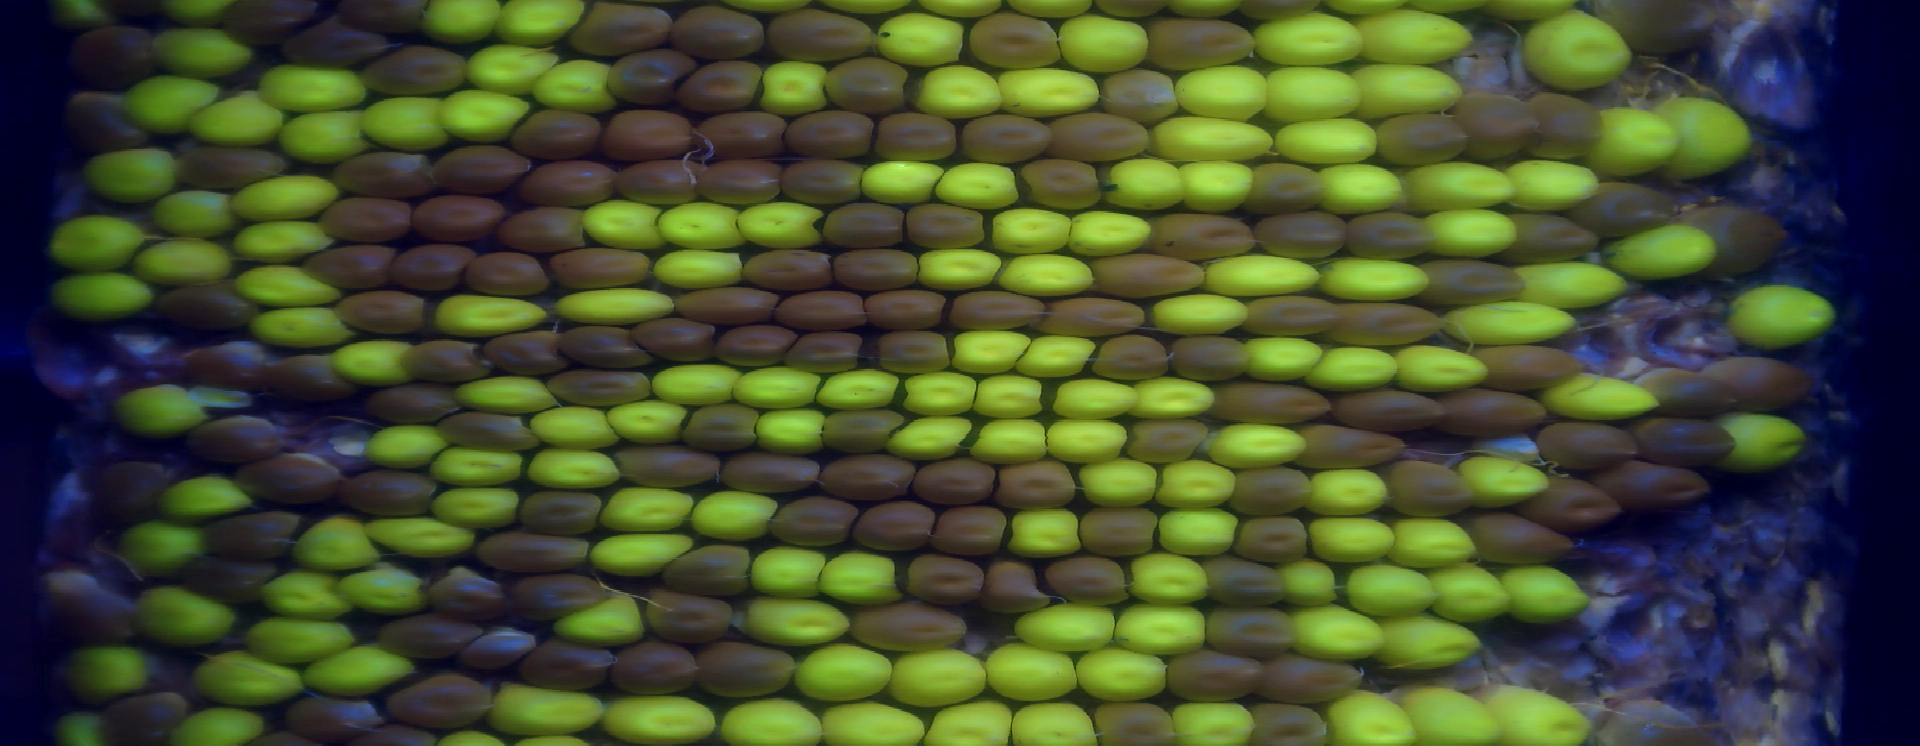fluorescent: (1526, 13, 1638, 93), (1733, 282, 1836, 353), (1141, 113, 1289, 162), (1607, 219, 1718, 284), (1656, 96, 1749, 173), (1484, 684, 1597, 746), (1281, 601, 1389, 666), (1369, 611, 1482, 673), (124, 586, 236, 646), (1349, 59, 1466, 116), (1344, 10, 1471, 62), (1540, 369, 1660, 424), (791, 641, 898, 702), (1397, 160, 1515, 216), (888, 650, 989, 714), (1446, 303, 1584, 349), (191, 647, 302, 704), (252, 61, 381, 110), (119, 73, 219, 136), (43, 216, 149, 274), (1262, 64, 1368, 122), (601, 691, 721, 742), (1051, 13, 1153, 73), (302, 639, 414, 695), (531, 53, 629, 115), (984, 641, 1081, 703), (189, 85, 290, 143), (999, 66, 1107, 121), (1251, 13, 1367, 65), (490, 681, 605, 733), (1318, 251, 1435, 301), (76, 151, 185, 205), (1596, 105, 1678, 176), (1076, 643, 1171, 704), (1716, 412, 1806, 475), (61, 646, 159, 704), (551, 283, 693, 323), (1500, 159, 1604, 214), (1392, 341, 1491, 398), (814, 699, 936, 746), (1201, 254, 1321, 300), (361, 513, 481, 560), (713, 697, 827, 746), (743, 595, 857, 644), (1404, 690, 1502, 746), (530, 401, 632, 454), (1011, 604, 1120, 654), (1424, 206, 1523, 261), (1506, 265, 1626, 310), (873, 11, 971, 66), (358, 94, 451, 152), (1451, 454, 1550, 508), (1174, 157, 1261, 218), (1269, 119, 1382, 165), (1386, 514, 1484, 568), (1348, 559, 1438, 617), (747, 543, 836, 600), (246, 617, 356, 664), (231, 173, 342, 219), (1109, 603, 1211, 653), (1300, 344, 1400, 396), (148, 27, 255, 75), (1499, 567, 1591, 622), (1166, 64, 1271, 111), (291, 521, 384, 575), (918, 66, 1009, 121), (1152, 292, 1254, 341), (1104, 159, 1193, 216), (429, 481, 527, 532), (1204, 421, 1307, 469), (429, 439, 531, 486), (49, 274, 160, 318), (467, 43, 560, 96), (430, 294, 551, 334), (691, 491, 779, 546), (489, 1, 589, 49), (1326, 691, 1413, 746), (1429, 563, 1510, 622), (339, 566, 433, 616), (524, 445, 626, 491), (440, 91, 531, 142), (115, 383, 211, 432), (591, 530, 694, 576), (239, 306, 358, 345), (1307, 469, 1396, 521), (1124, 555, 1213, 606), (261, 567, 350, 619), (280, 110, 367, 163), (1304, 518, 1400, 566), (1155, 456, 1238, 510), (234, 265, 348, 304), (730, 361, 825, 408), (158, 474, 256, 519), (817, 552, 896, 608), (1152, 508, 1242, 557), (1065, 213, 1158, 260), (331, 341, 424, 387), (999, 249, 1090, 296), (1009, 506, 1087, 561), (904, 246, 1004, 289), (1318, 164, 1401, 216), (648, 361, 744, 405), (555, 601, 651, 646), (596, 488, 696, 530), (1075, 457, 1160, 507), (936, 159, 1020, 209), (757, 59, 830, 116), (1129, 376, 1220, 423), (411, 1, 504, 47), (131, 240, 235, 281), (1046, 416, 1131, 465), (643, 244, 743, 285), (889, 412, 976, 459), (1046, 379, 1145, 420), (124, 522, 206, 572), (1007, 702, 1100, 746), (920, 703, 1015, 746), (364, 423, 447, 472), (735, 201, 824, 246), (658, 203, 744, 249), (1244, 334, 1322, 385), (1015, 334, 1100, 381), (860, 158, 944, 205), (453, 376, 556, 414), (991, 208, 1071, 256), (164, 709, 268, 746), (609, 399, 691, 446), (749, 405, 827, 454), (817, 367, 907, 409), (1174, 699, 1254, 746), (153, 194, 239, 236), (900, 372, 980, 418), (1276, 559, 1343, 610), (972, 416, 1051, 461), (949, 330, 1029, 372), (231, 220, 334, 254), (973, 374, 1048, 418), (47, 709, 111, 746), (44, 1, 116, 31), (159, 1, 234, 27)
nonfluorescent: (34, 572, 149, 657), (1581, 1, 1720, 60), (1570, 176, 1686, 239), (384, 669, 498, 731), (1419, 254, 1536, 314), (960, 12, 1074, 73), (1692, 208, 1791, 276), (1333, 383, 1456, 437), (1427, 383, 1559, 432), (851, 599, 970, 653), (1627, 412, 1738, 469), (1258, 653, 1368, 710), (1467, 508, 1578, 565), (567, 1, 669, 62), (769, 7, 879, 64), (1713, 355, 1818, 414), (62, 91, 158, 154), (1333, 298, 1446, 352), (1458, 93, 1540, 167), (1209, 376, 1335, 424), (509, 103, 613, 160), (154, 281, 267, 333), (224, 453, 348, 501), (284, 15, 393, 69), (694, 644, 796, 702), (1528, 91, 1607, 164), (1538, 418, 1644, 472), (1588, 698, 1708, 746), (1140, 20, 1262, 66), (317, 190, 418, 246), (640, 588, 740, 644), (1163, 649, 1269, 702), (1293, 423, 1408, 470), (93, 691, 192, 746), (1637, 365, 1742, 416), (672, 4, 768, 60), (1374, 114, 1476, 167), (507, 573, 613, 624), (1253, 208, 1352, 262), (1597, 463, 1714, 508), (429, 146, 528, 198), (1382, 459, 1473, 517), (523, 157, 623, 208), (1152, 214, 1258, 263), (1527, 478, 1622, 532), (673, 56, 760, 115), (69, 27, 156, 86), (263, 353, 360, 405), (1089, 254, 1207, 296), (1201, 557, 1293, 612), (551, 244, 662, 289), (333, 288, 433, 338), (400, 194, 503, 243), (664, 539, 753, 595), (1043, 113, 1149, 160), (1474, 345, 1580, 393), (478, 529, 591, 573), (853, 499, 940, 556), (609, 643, 705, 695), (362, 48, 467, 96), (774, 496, 862, 552), (613, 450, 729, 492), (609, 48, 698, 103), (1202, 600, 1293, 654), (427, 563, 516, 619), (1505, 211, 1602, 261), (290, 692, 387, 742), (184, 334, 273, 388), (301, 240, 399, 289), (958, 113, 1053, 163), (1024, 156, 1107, 213), (1164, 333, 1258, 385), (96, 461, 167, 528), (743, 246, 838, 296), (338, 468, 440, 514), (523, 637, 609, 692), (876, 109, 962, 163), (203, 512, 304, 559), (1346, 213, 1442, 261), (1232, 467, 1318, 521), (495, 203, 589, 252), (780, 158, 866, 212), (1078, 507, 1167, 559), (1043, 296, 1152, 338), (1238, 296, 1343, 339), (378, 611, 474, 658), (609, 111, 702, 159), (1047, 557, 1138, 606), (176, 146, 283, 187), (823, 203, 911, 254), (1090, 328, 1173, 381), (1236, 508, 1311, 566), (992, 461, 1082, 508), (725, 453, 820, 499), (676, 285, 782, 326), (828, 62, 913, 113), (700, 160, 792, 207), (977, 560, 1056, 614), (947, 288, 1051, 328), (902, 556, 988, 605), (338, 152, 436, 195), (715, 322, 798, 372), (189, 416, 283, 461), (436, 410, 533, 453), (185, 557, 278, 601), (1103, 70, 1185, 119), (1251, 160, 1322, 217), (471, 251, 560, 296), (387, 243, 473, 289), (618, 160, 708, 205), (823, 458, 920, 499), (781, 323, 861, 372), (904, 205, 989, 250), (789, 115, 876, 159), (872, 330, 951, 377), (1097, 702, 1183, 746), (519, 488, 602, 533), (698, 116, 789, 158), (459, 628, 535, 677), (636, 318, 719, 363), (1248, 701, 1329, 746), (544, 369, 648, 403), (1131, 420, 1213, 463), (405, 341, 487, 383), (781, 293, 869, 332), (561, 328, 645, 369), (228, 1, 315, 40), (827, 410, 901, 456), (370, 386, 462, 423), (931, 510, 1009, 552), (337, 1, 431, 37), (913, 463, 996, 503), (683, 405, 763, 447), (482, 332, 562, 374), (835, 251, 920, 289), (868, 293, 945, 330), (1234, 1, 1326, 22)
